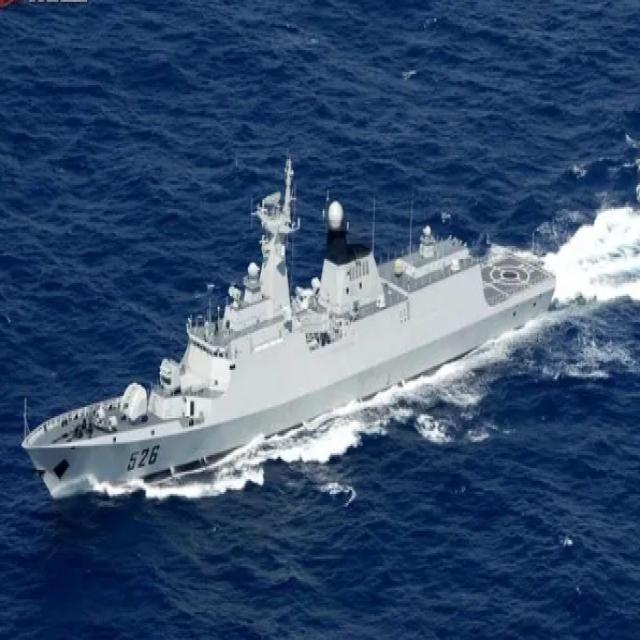navalvessels: (20, 133, 562, 509)
